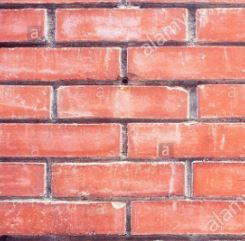brick: (54, 6, 191, 45), (51, 161, 187, 198), (126, 119, 245, 161), (1, 122, 124, 160), (1, 201, 128, 237), (56, 85, 190, 119), (125, 47, 245, 82), (1, 47, 122, 81), (131, 200, 245, 236), (190, 161, 245, 198), (193, 7, 245, 43), (1, 84, 53, 119), (194, 85, 245, 120), (1, 7, 49, 44), (1, 161, 49, 197)
